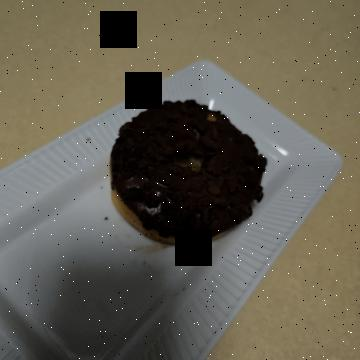doughnut: (80, 74, 266, 253)
